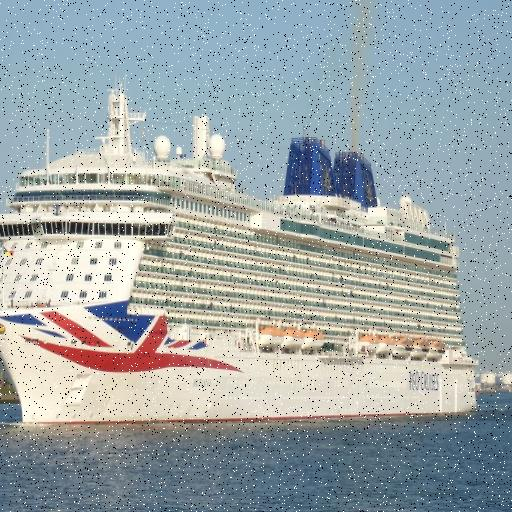cruises: (1, 81, 485, 431)
